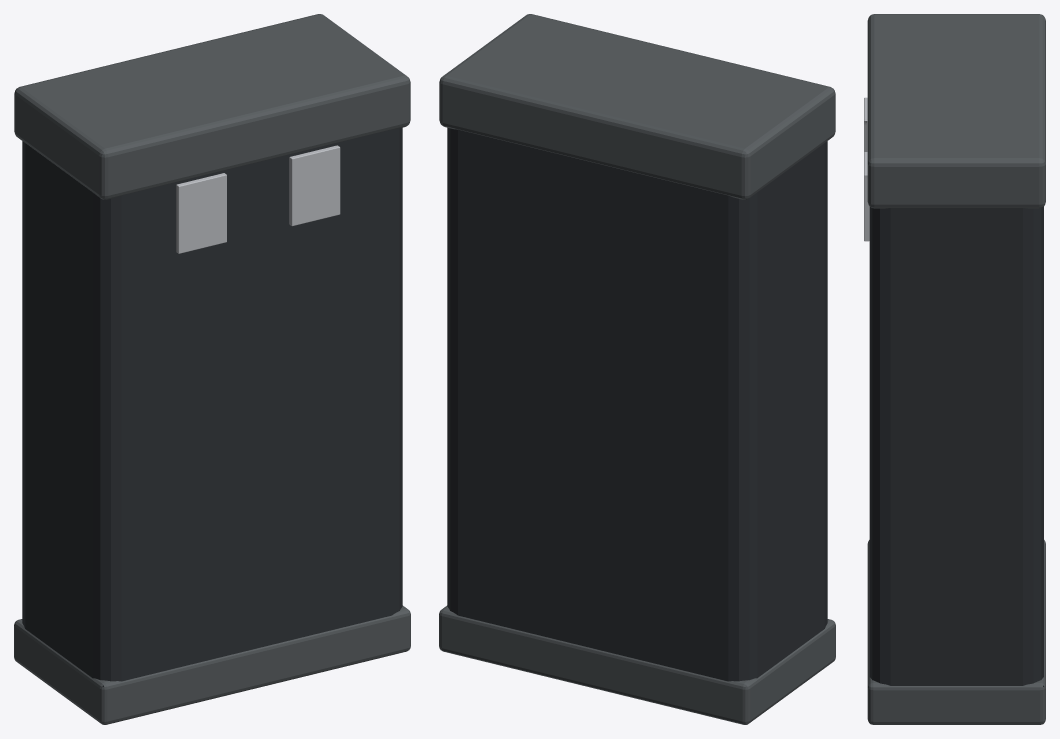
File: BatteryLithiumPack-v1.fbx
3 renders of one model, left to right at view 1: azimuth 30°, elevation 25°; view 2: azimuth 150°, elevation 25°; view 3: azimuth 270°, elevation 25°, orthographic.
Visible parts, largest first — view 1: PW_BatteryLithiumPack; view 2: PW_BatteryLithiumPack; view 3: PW_BatteryLithiumPack.
Part boxes in pixels (x1=…): PW_BatteryLithiumPack: x1=14, y1=14, x2=410, y2=724; PW_BatteryLithiumPack: x1=439, y1=14, x2=835, y2=724; PW_BatteryLithiumPack: x1=864, y1=14, x2=1045, y2=724.
Bounding box in the file's own units: 3.84 × 6.8 × 1.98.
Materials: 1 (1 with a texture image).
